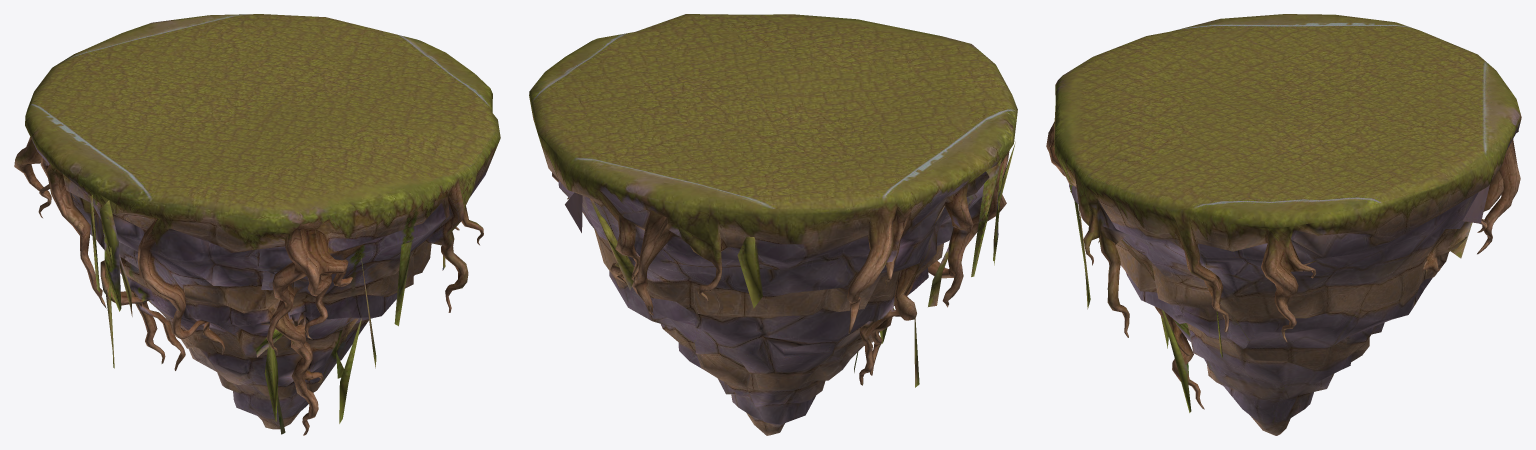
File: underside.glb
The picture shows the model from 3 angles, left to right: view 1: azimuth 30°, elevation 25°; view 2: azimuth 150°, elevation 25°; view 3: azimuth 270°, elevation 25°; orthographic projection. The views are drawn at different scales.
Parts seen in each view (by area): view 1: underside; view 2: underside; view 3: underside.
Part boxes in pixels (x1=…): underside: x1=14, y1=14, x2=500, y2=435; underside: x1=529, y1=14, x2=1017, y2=435; underside: x1=1046, y1=14, x2=1521, y2=435.
Bounding box in the file's own units: 10 × 7.39 × 9.78.
Materials: 1 (1 with a texture image).
